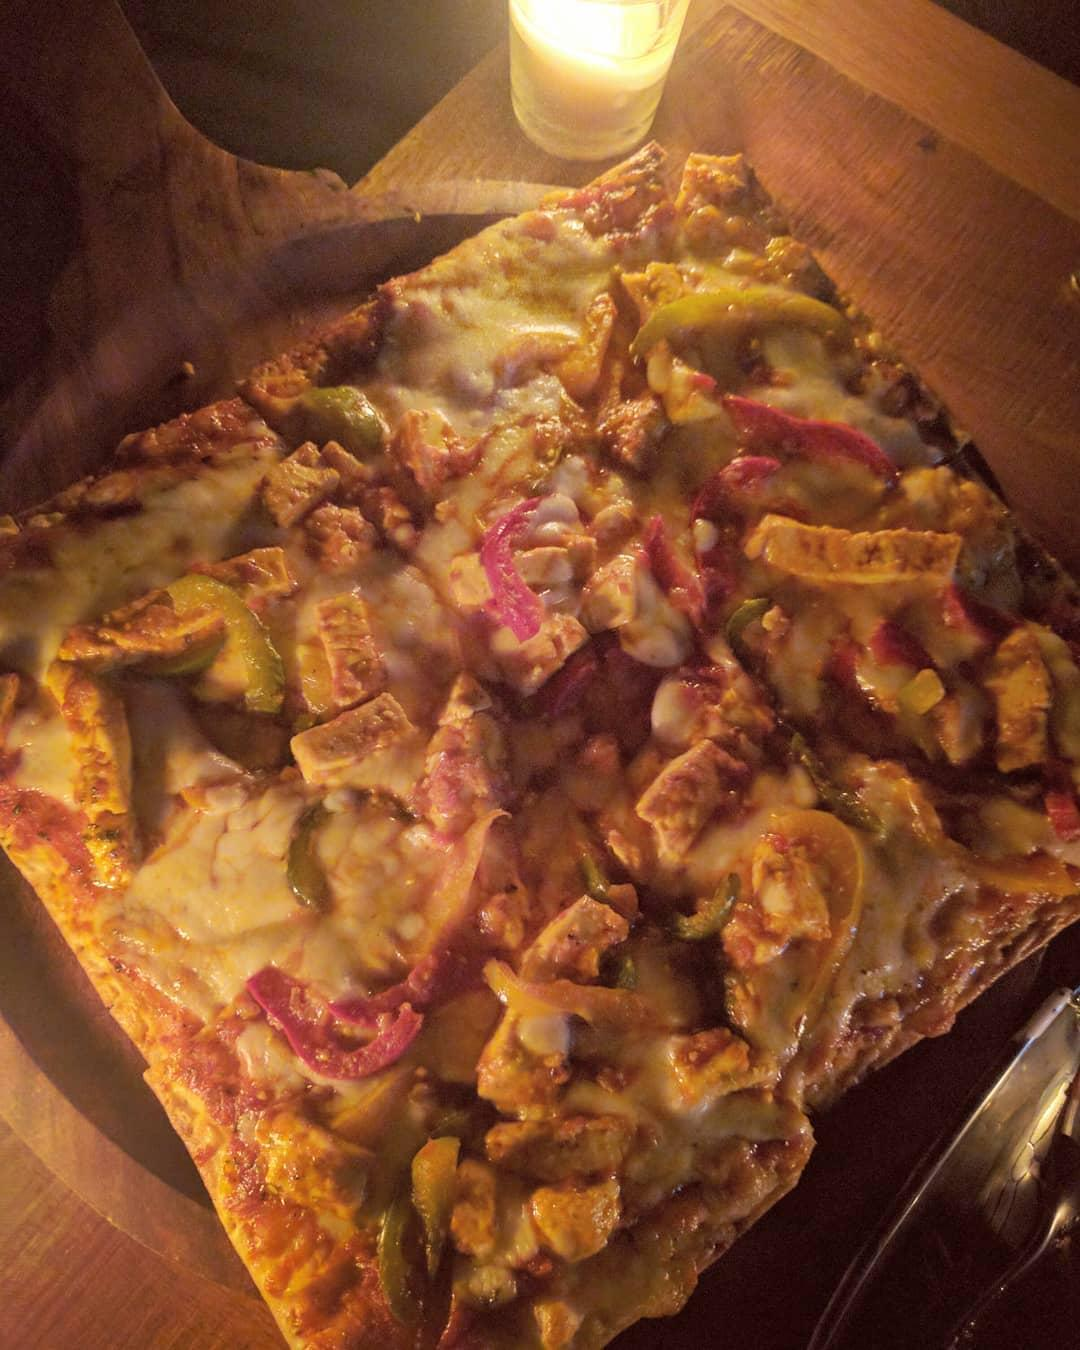Chicken: (494, 890, 629, 1095), (37, 627, 147, 866), (640, 677, 776, 857), (917, 640, 1067, 778), (724, 504, 958, 586), (74, 558, 272, 650), (411, 684, 523, 844), (548, 291, 648, 468), (484, 941, 685, 1023), (741, 812, 862, 941), (898, 461, 1036, 563), (662, 1004, 780, 1116), (281, 594, 390, 714), (519, 1157, 630, 1270), (468, 1090, 650, 1155), (250, 433, 356, 525), (288, 695, 400, 777), (294, 497, 387, 562)
Ham: (250, 961, 430, 1082), (710, 380, 898, 490), (472, 484, 554, 650)
Peppers: (160, 564, 288, 727), (374, 1124, 464, 1336), (622, 284, 849, 363), (779, 726, 879, 828), (289, 377, 393, 454), (280, 789, 331, 928), (708, 583, 779, 678), (551, 811, 618, 909), (673, 864, 750, 939)
Pizza: (8, 158, 1080, 1350)
